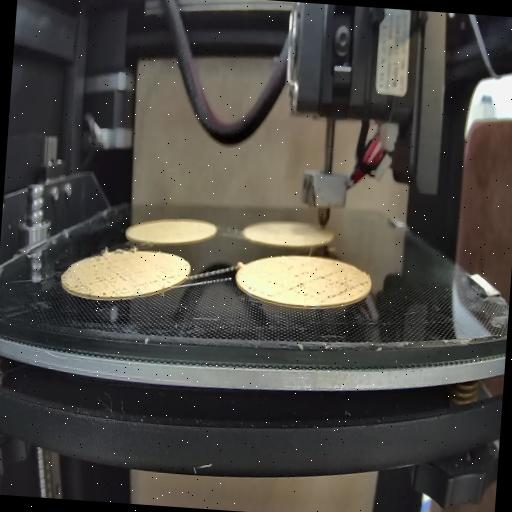under_extrusion: (287, 260, 371, 302), (74, 262, 133, 296), (244, 276, 282, 304), (146, 271, 178, 291)
